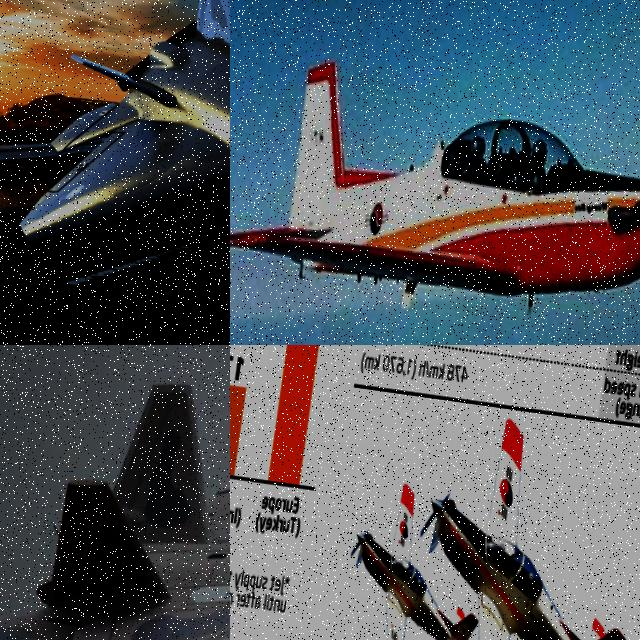F22: (13, 0, 230, 310), (0, 361, 230, 640)
KT-1: (230, 37, 640, 343), (394, 409, 640, 640), (330, 460, 498, 640)
